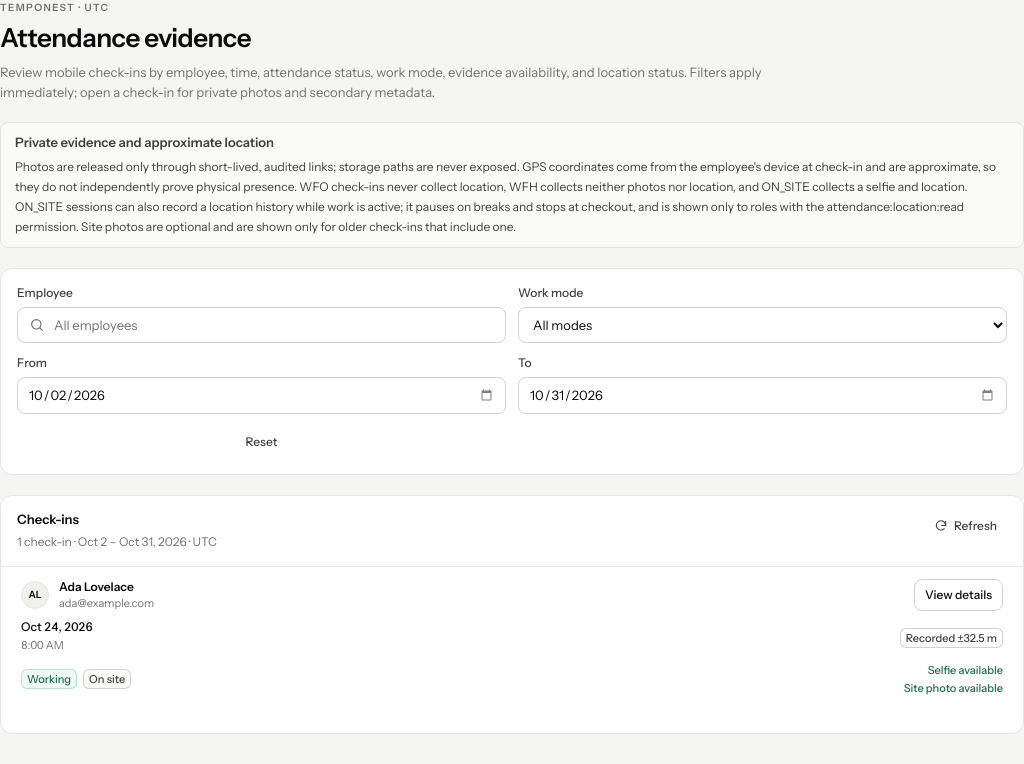
Scenario: AttendanceEvidenceView › loads selfie and site photos separately and shows the captured location
Click the button with aria-label "View attendance details for".
click(958, 595)  # box [914,579,1003,611]
(page scrolled)
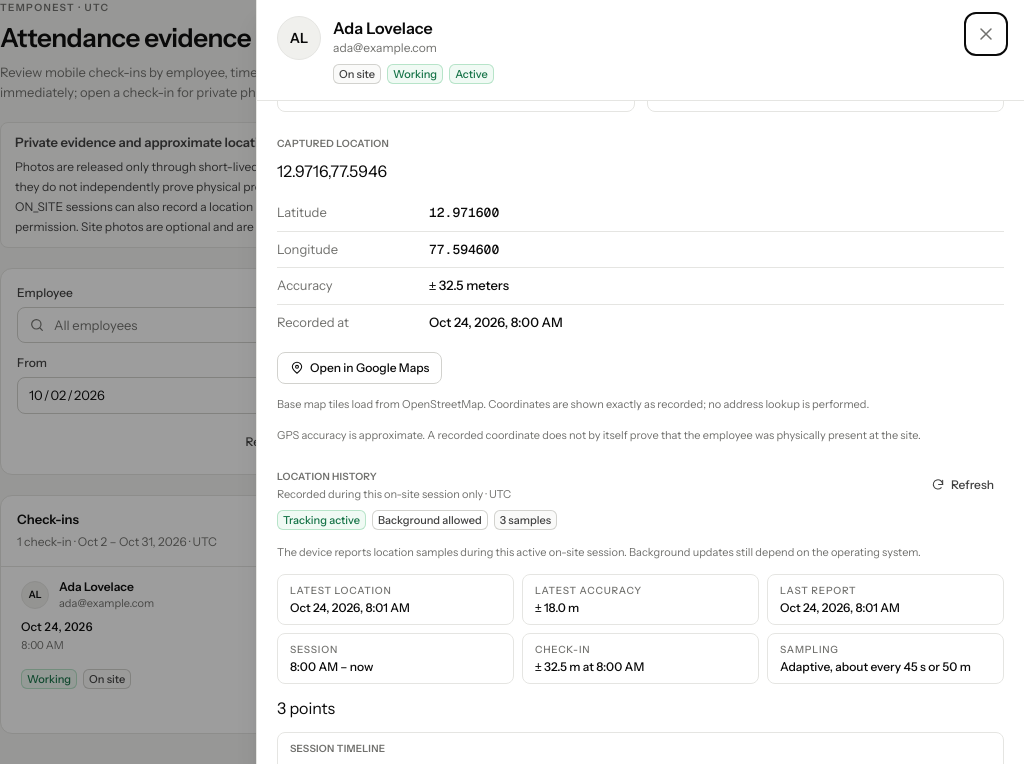
Now the text "12.971600" is shown, box [429,204,499,221]
Now the text "77.594600" is shown, box [429,241,499,258]
Now the text "± 32.5 meters" is shown, box [429,277,509,293]
